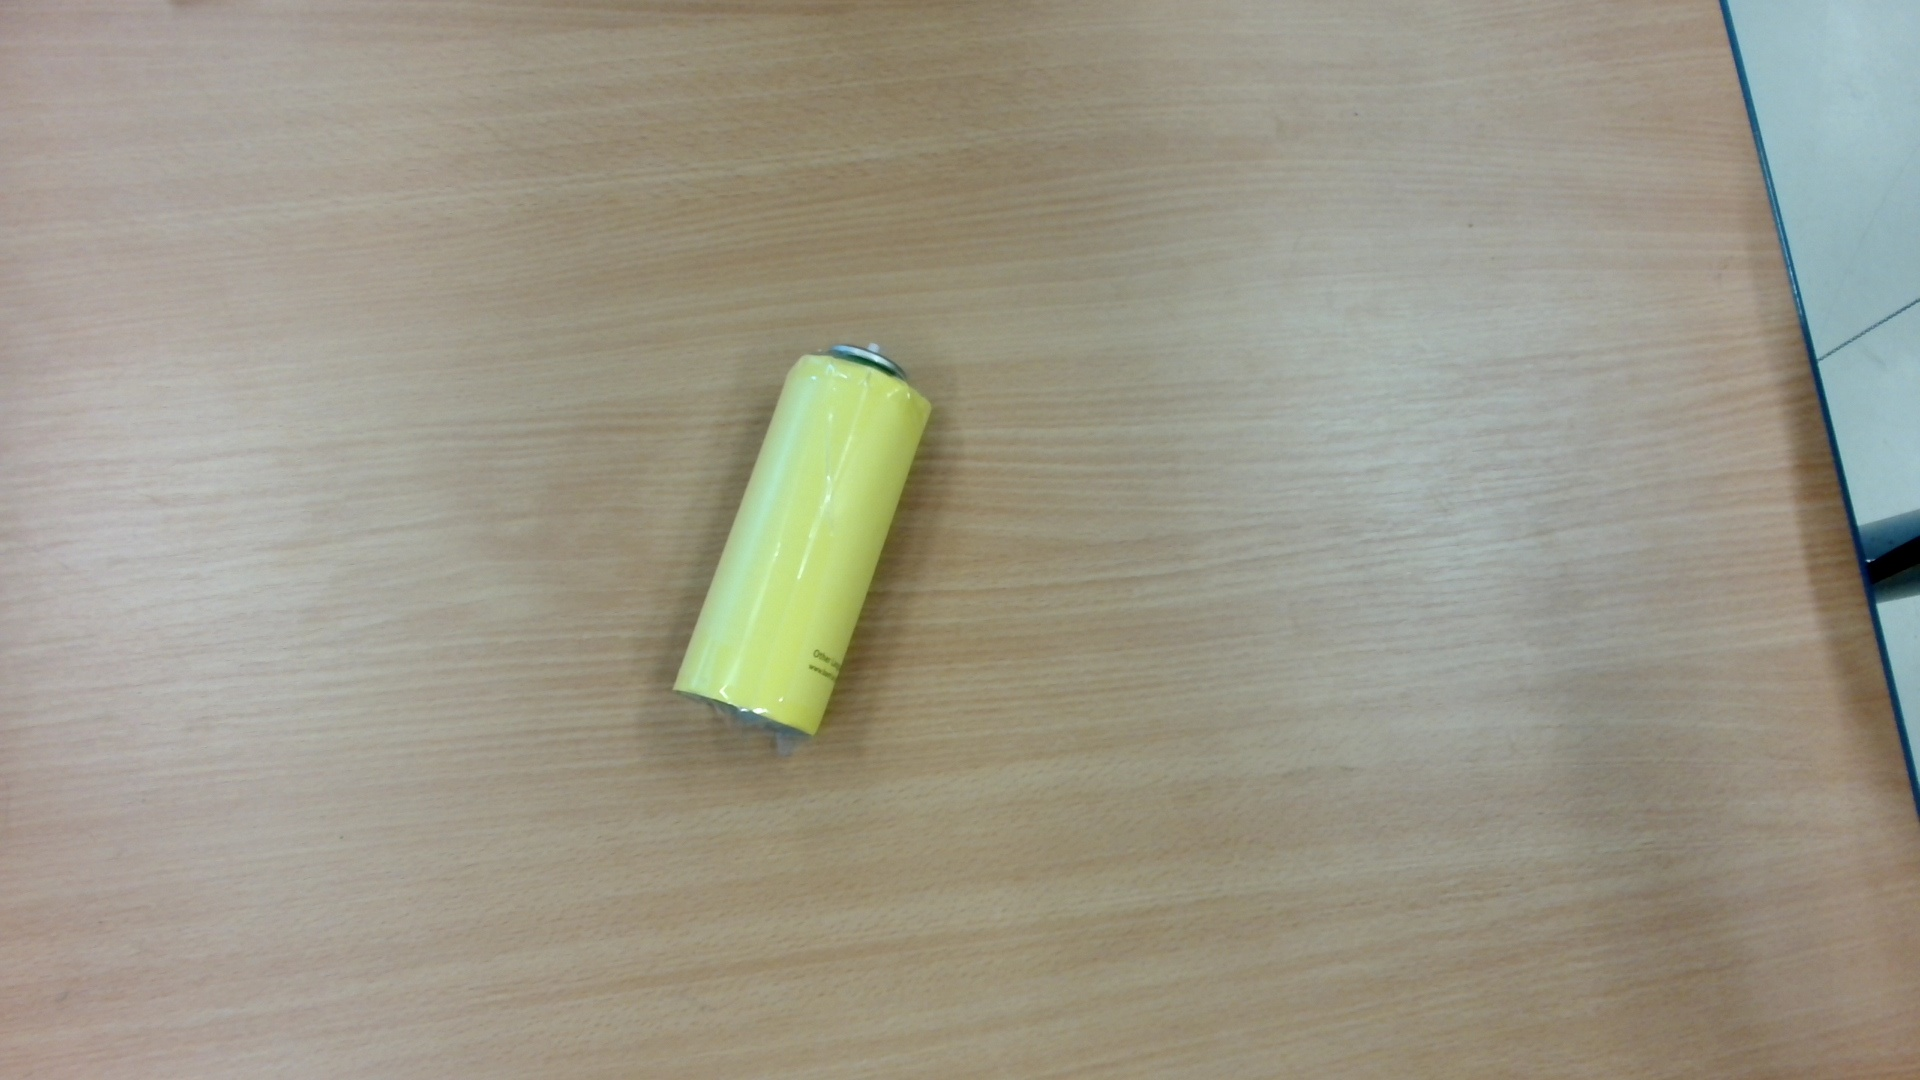Cylinder: (644, 330, 949, 766)
